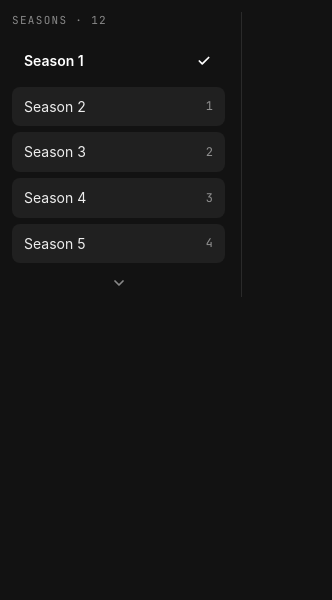
SeasonSideRail › caps the rail at five rows behind a chevron and reveals the rest on demand
This screenshot has width=332, height=600.
Expected: the number of buttons "Season 1" is 5, [12,41,225,81]; [12,87,225,126]; [12,132,225,172]; [12,178,225,218]; [12,224,225,264]
Step 1. Click the button named "Show all 12 seasons" → (118, 284), box [12,270,225,298]
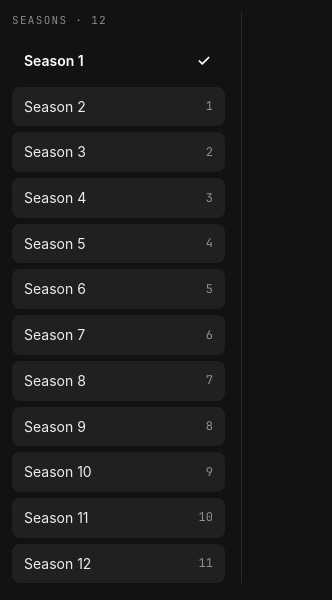
Expected: the number of buttons "Season 1" is 12
